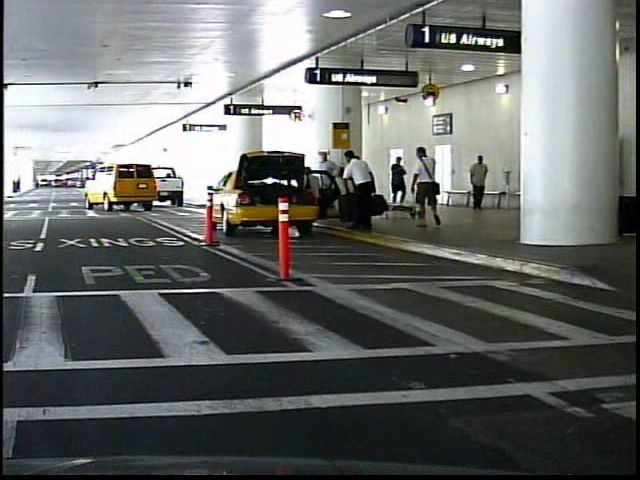person: (407, 147, 444, 232), (461, 152, 486, 214)
